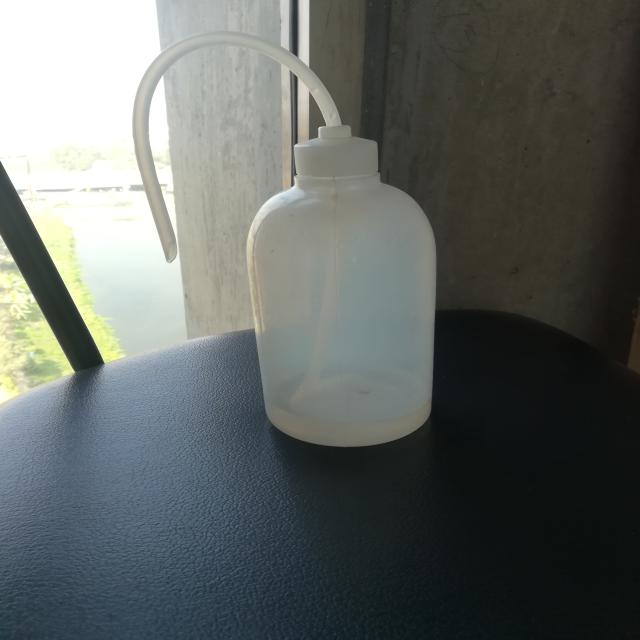Wash_Bottle: (84, 0, 487, 470)
